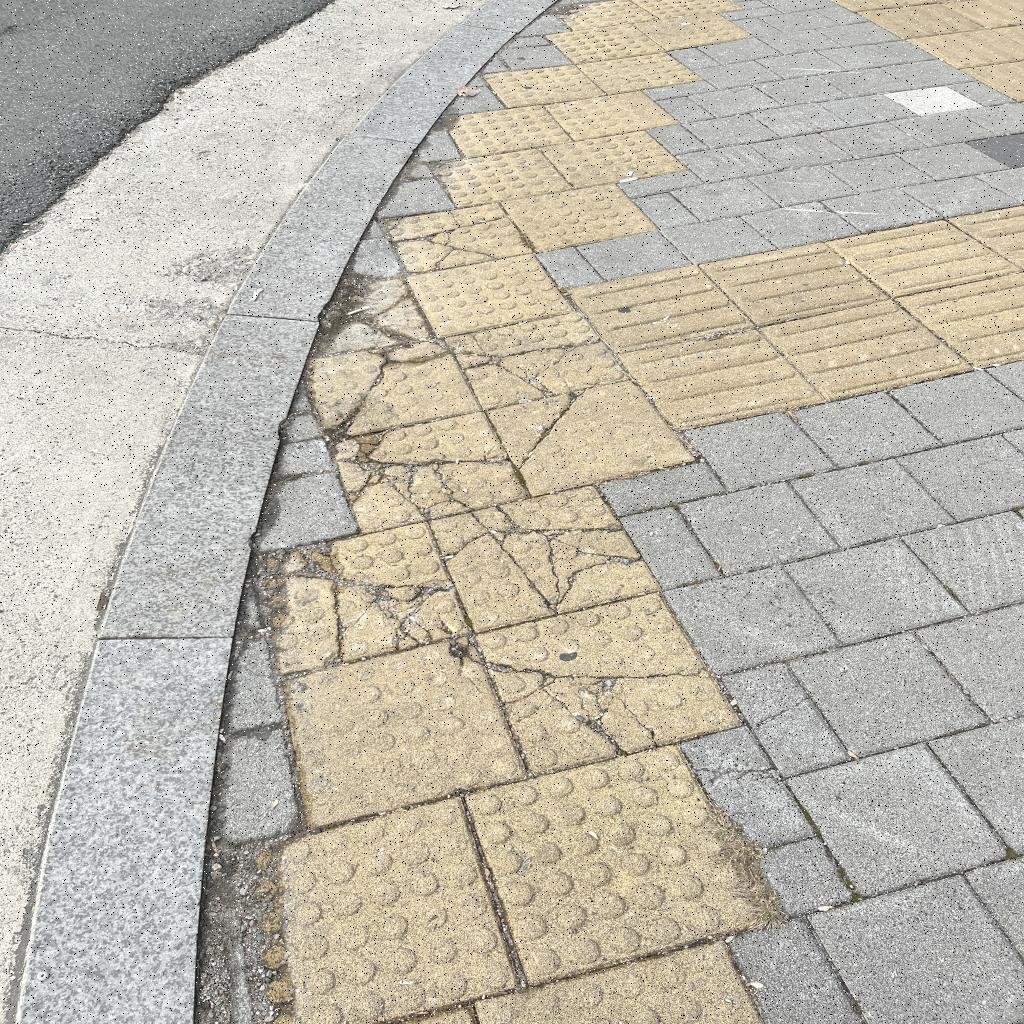Stop block broken: (475, 580, 738, 778), (431, 476, 657, 634), (251, 513, 469, 676), (487, 369, 693, 502), (329, 405, 528, 535), (445, 303, 628, 414), (306, 329, 480, 442), (381, 195, 531, 276)
Stop block normal: (465, 733, 773, 986), (407, 246, 572, 342), (540, 125, 688, 192)
Straight block normal: (763, 285, 971, 412)
